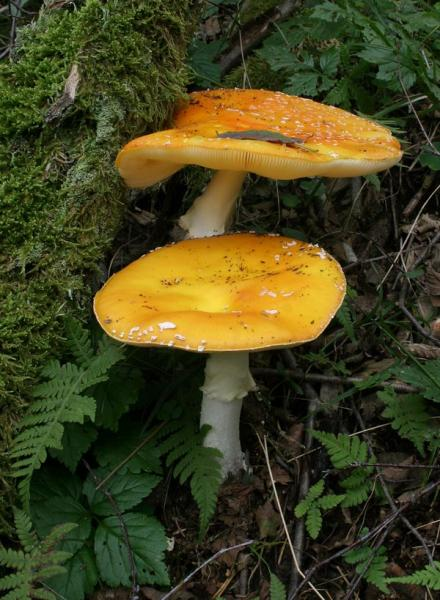banana: (91, 230, 345, 351), (113, 87, 403, 186)
